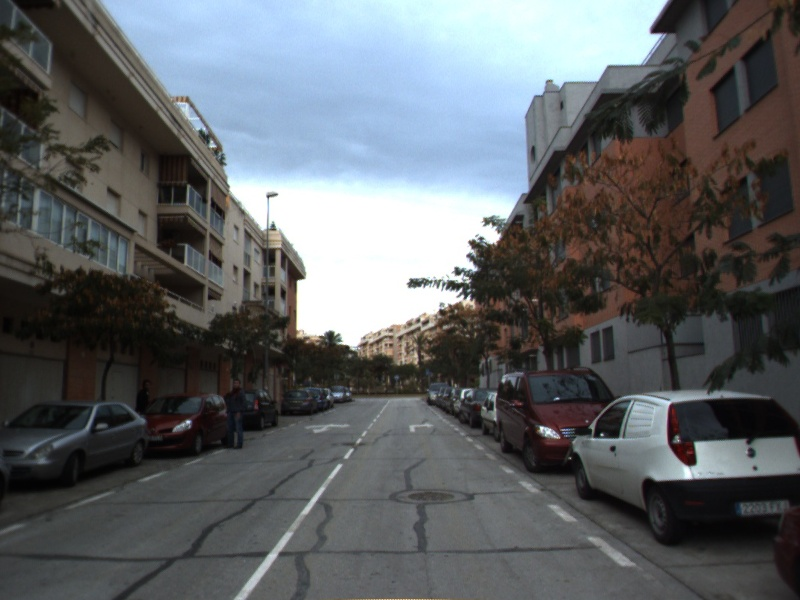RIGHT: (407, 420, 436, 434)
